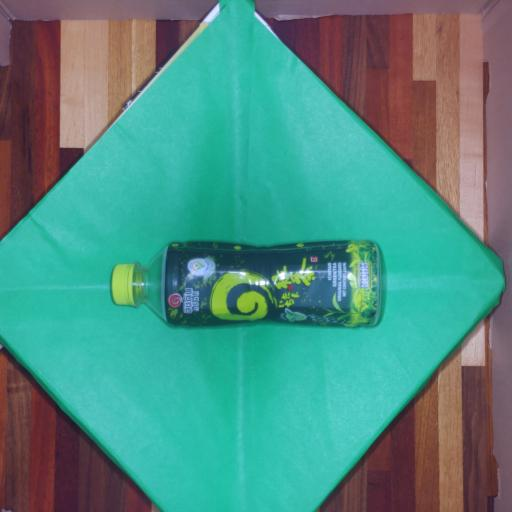bottle: (104, 223, 391, 345)
